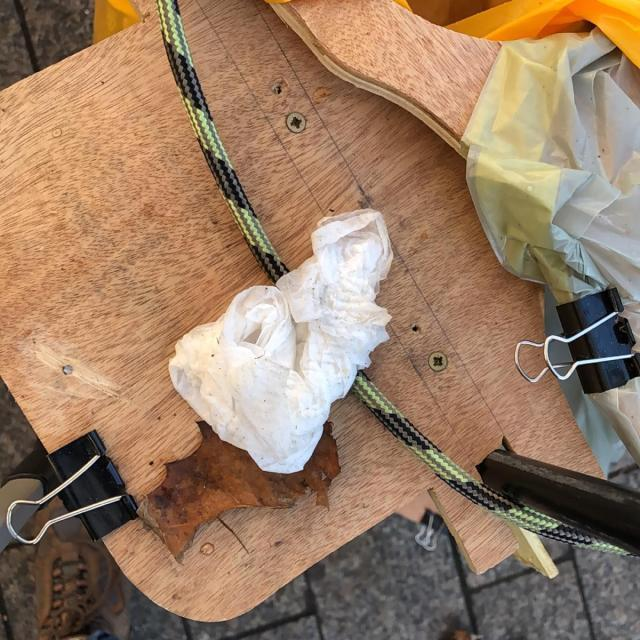Paper: (167, 207, 395, 477)
